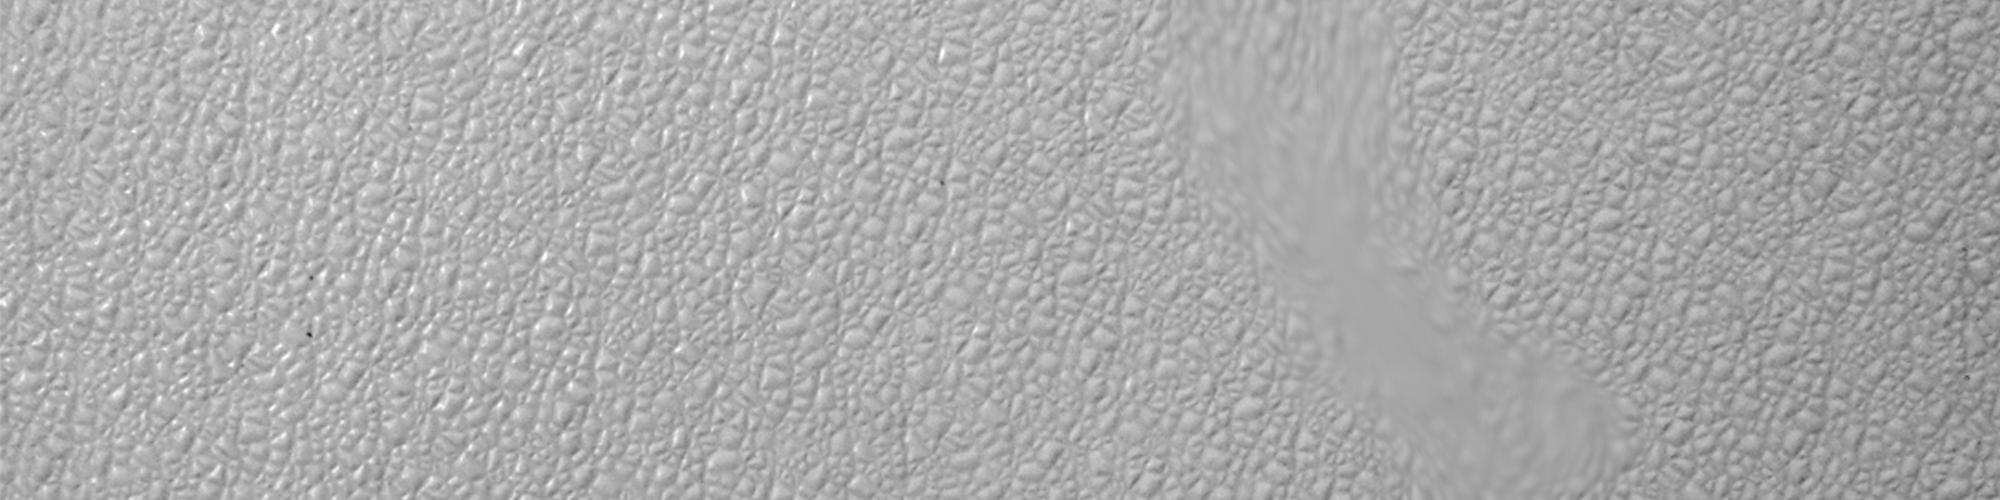Flow_Lines: (1116, 11, 1636, 497)
